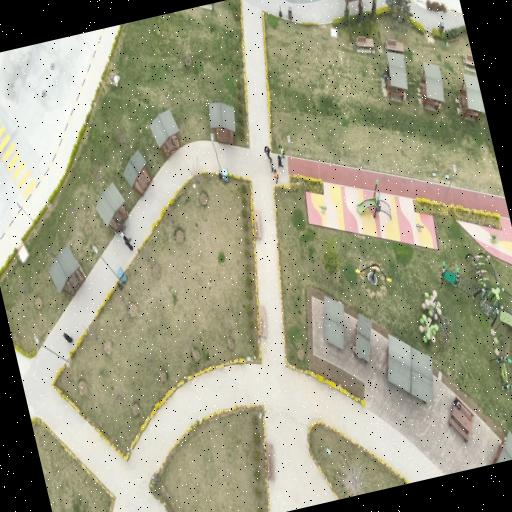person: (123, 234, 133, 251), (382, 65, 390, 84), (115, 218, 125, 231), (63, 332, 72, 343), (453, 398, 461, 409), (126, 241, 134, 251), (264, 146, 270, 158), (279, 145, 285, 157), (269, 157, 274, 171), (416, 224, 424, 232), (274, 170, 279, 182), (278, 155, 283, 167), (124, 236, 131, 242)
